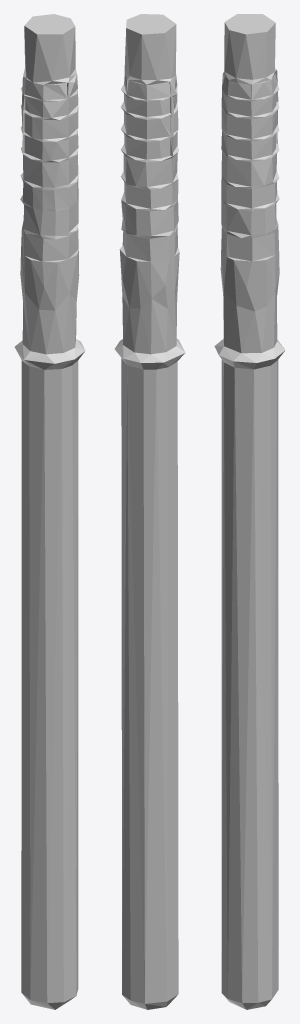
File: PalkaZomowska.fbx
The picture shows the model from 3 angles, left to right: view 1: azimuth 90°, elevation 25°; view 2: azimuth 210°, elevation 25°; view 3: azimuth 270°, elevation 25°; orthographic projection.
Parts seen in each view (by area): view 1: PalkaZomowska; view 2: PalkaZomowska; view 3: PalkaZomowska.
Boxes of the visible parts, x1=… form: PalkaZomowska: x1=14, y1=14, x2=85, y2=1009; PalkaZomowska: x1=114, y1=14, x2=185, y2=1009; PalkaZomowska: x1=214, y1=14, x2=285, y2=1009.
Size of the model in its own units: 4.18 by 63.76 by 4.15.
